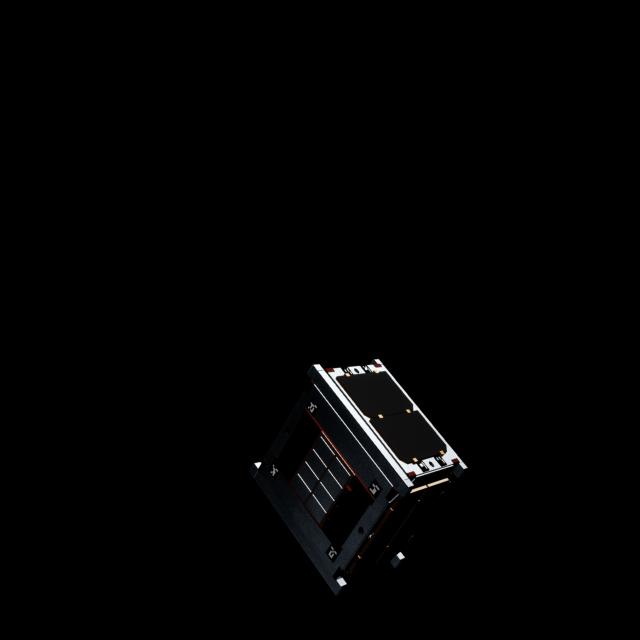medium_debris: (248, 356, 478, 598)
